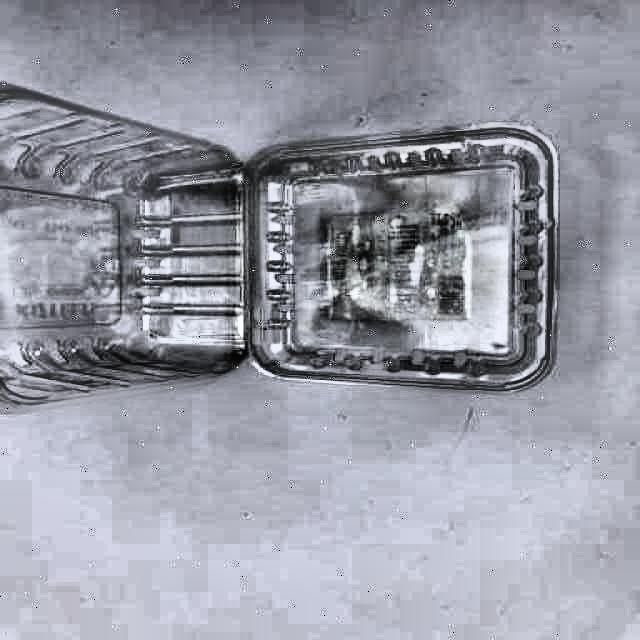plastic: (0, 88, 554, 404)
